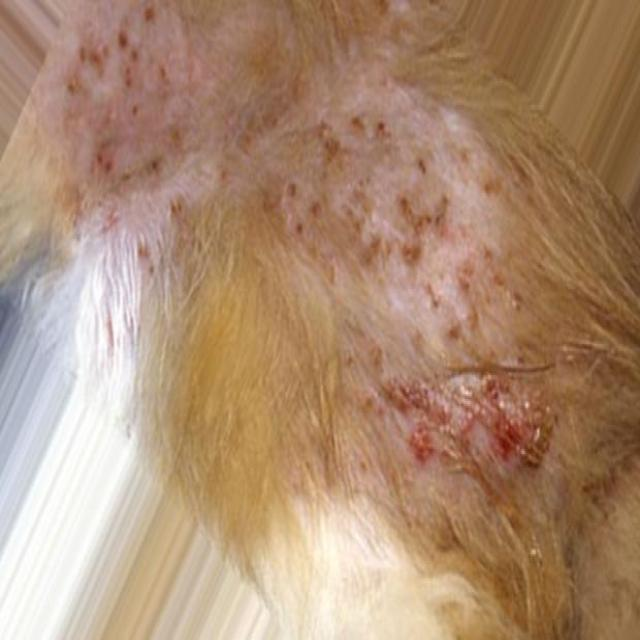di ung bo chet: (0, 0, 572, 549)
